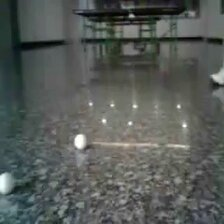w: (1, 172, 14, 195), (74, 134, 88, 150)
